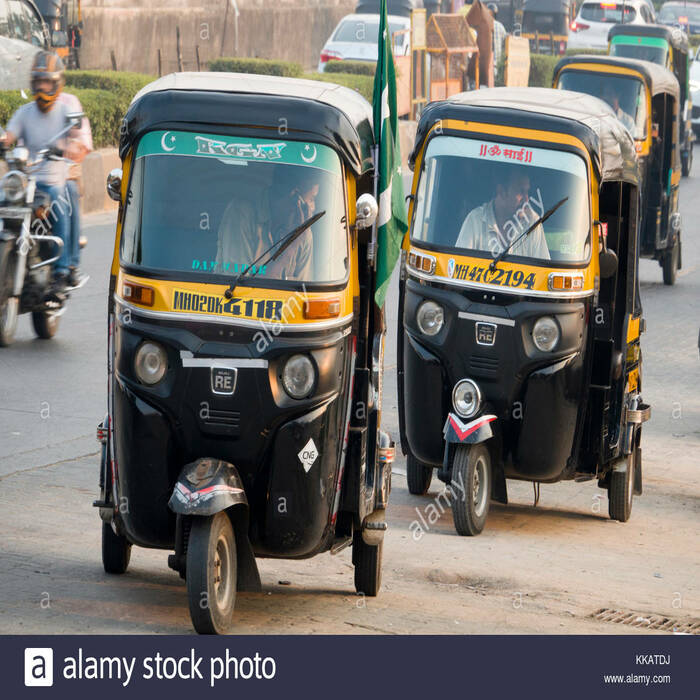n: (166, 284, 290, 326), (448, 257, 538, 295)
